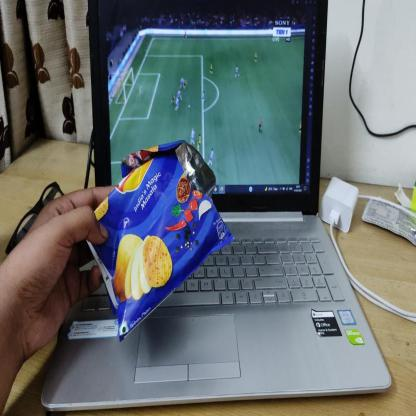indian_magic_masala: (89, 143, 231, 340)
